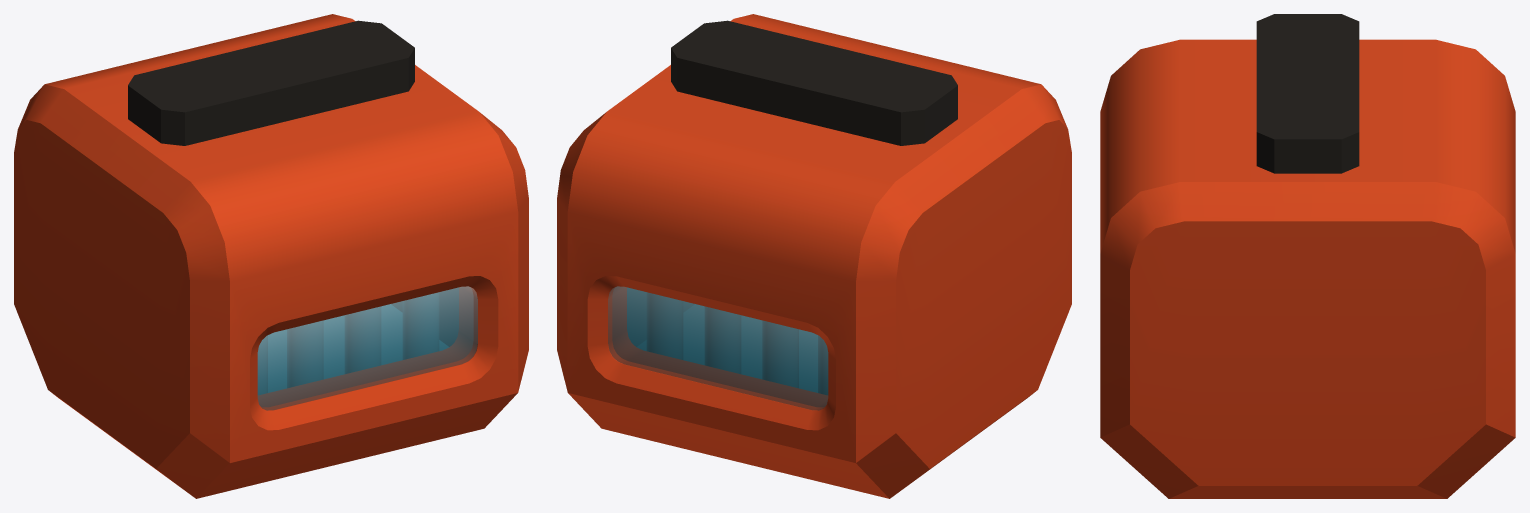
Rendered from MG4_Magazine.fbx.
3 views of the same model, side by side, from view 1: azimuth 30°, elevation 25°; view 2: azimuth 150°, elevation 25°; view 3: azimuth 270°, elevation 25° (orthographic).
Visible parts, largest first — view 1: MG4_Magazine; view 2: MG4_Magazine; view 3: MG4_Magazine.
Part boxes in pixels (x1,y1,x2,y2): MG4_Magazine: [14, 14, 528, 498]; MG4_Magazine: [557, 14, 1071, 498]; MG4_Magazine: [1100, 14, 1515, 498].
Size of the model in its own units: 13.57 by 13.27 by 14.23.
